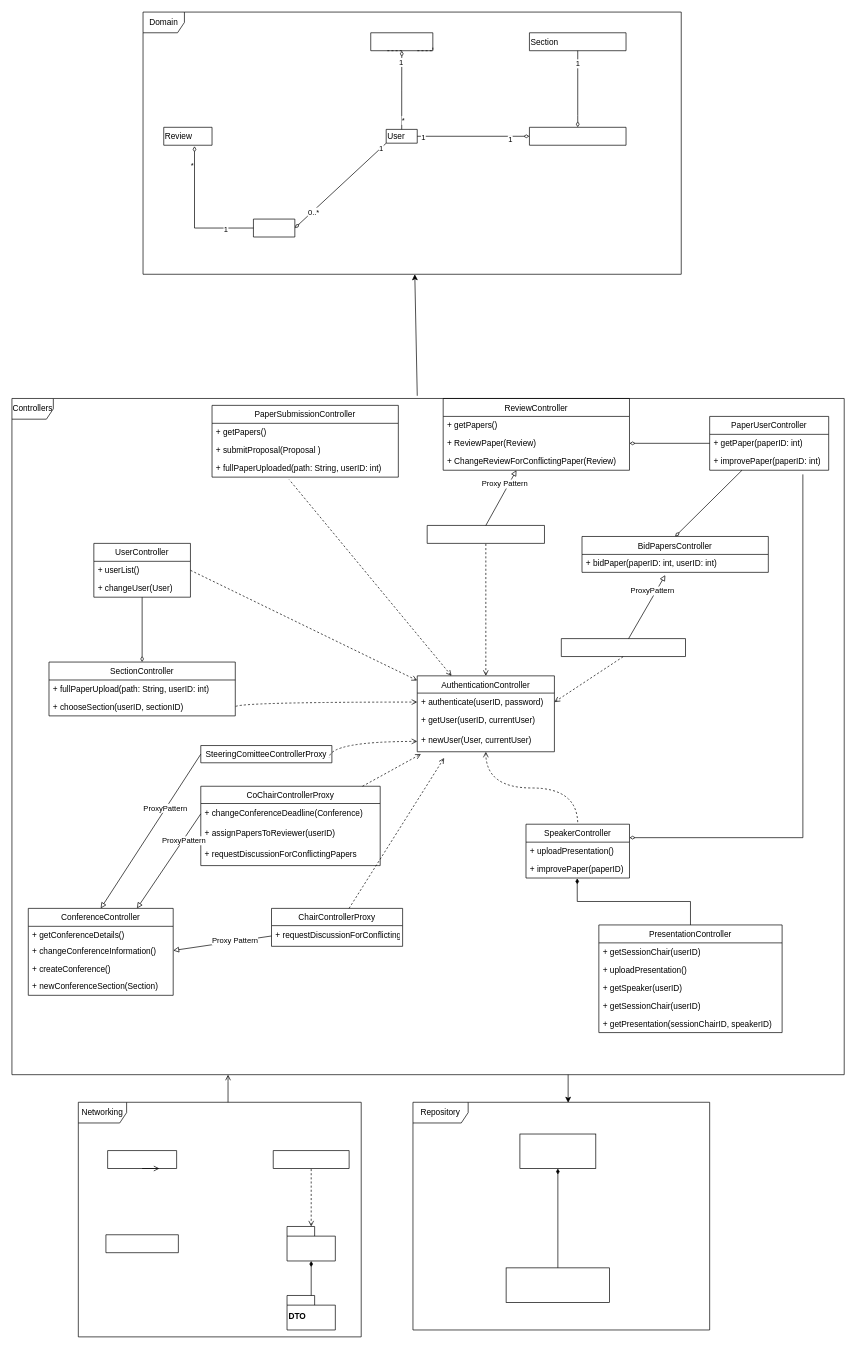
The diagram is 857 pixels wide and 1349 high, and some of its shapes have lost their labels. The centre of each missing label's shape, as x and y in pixels:
"Authorization" belongs at point 142,1159.
"Conference" belongs at point 401,41.
"DatababseConnector" belongs at point 557,1284.
"FileUpload" belongs at point 141,1243.
"Paper" belongs at point 274,227.
"ProgramComiiteeControllerProxy" belongs at point 623,647.
"ReviewerControllerProxy" belongs at point 485,534.
"Route" belongs at point 310,1243.
"Server" belongs at point 311,1159.
"TableAdaptor" belongs at point 557,1151.
"UserSectionChoice" belongs at point 577,136.
